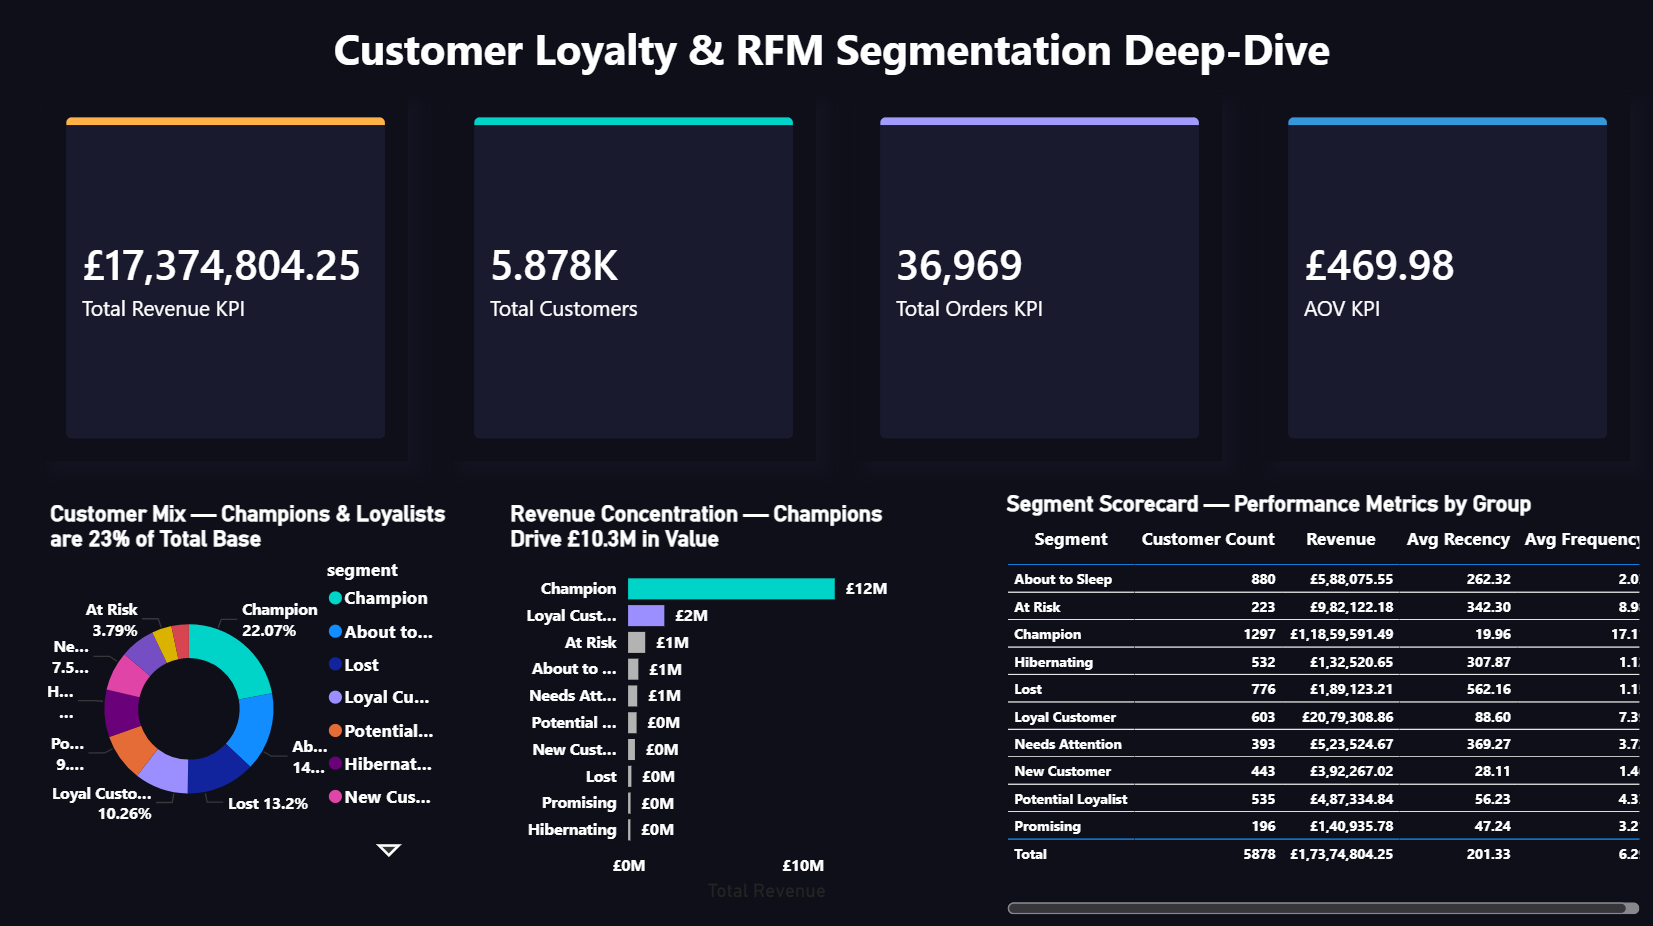

The page's visual inventory and layout, read from the dashboard file:
{"tool":"powerbi","page":{"name":"Customer Loyalty & RFM Analysis","canvas":[1280,720],"ordinal":1},"visuals":[{"type":"cardVisual","fields":{"Data":["fact_sales.Total Revenue KPI"]},"box":[41.3,79.6,278.7,280.2],"z":0},{"type":"cardVisual","fields":{"Data":["Count(rfm_segments.customer_id)"]},"box":[353.2,79.6,278.7,280.2],"z":1000},{"type":"cardVisual","title":"Total Orders","fields":{"Data":["fact_sales.Total Orders KPI"]},"box":[665,79.6,278.7,280.2],"z":2000},{"type":"cardVisual","fields":{"Data":["fact_sales.AOV KPI"]},"box":[976.8,79.6,278.7,280.2],"z":3000},{"type":"textbox","box":[0,16.8,1280,128.6],"z":4000},{"type":"donutChart","title":"Customer Mix — Champions & Loyalists are 23% of Total Base","fields":{"Category":["rfm_segments.segment"],"Y":["CountNonNull(rfm_segments.customer_id)"]},"box":[41.3,390.4,313.9,280.2],"z":5000},{"type":"clusteredBarChart","title":"Revenue Concentration — Champions Drive £10.3M in Value","fields":{"Category":["rfm_segments.segment"],"Y":["fact_sales.Total Revenue"]},"box":[393.5,390.4,329.2,310.8],"z":6000},{"type":"tableEx","title":"Segment Scorecard — Performance Metrics by Group","fields":{"Values":["rfm_segments.segment","rfm_segments.customer_id","fact_sales.Total Revenue","Avg(rfm_segments.recency)","Avg(rfm_segments.frequency)"]},"box":[773.2,382.8,494.5,329.2],"z":7000}]}

Visuals, with their boxes in screenshot pixels (x1, y1, x2, y2), scaled from the page's 1280x720 canvas onto the 1653x926 screenshot:
cardVisual - fact_sales.Total Revenue KPI: BBox(53, 102, 413, 463)
cardVisual - Count(rfm_segments.customer_id): BBox(456, 102, 816, 463)
"Total Orders" cardVisual: BBox(859, 102, 1219, 463)
cardVisual - fact_sales.AOV KPI: BBox(1261, 102, 1621, 463)
textbox: BBox(0, 22, 1652, 187)
"Customer Mix — Champions & Loyalists are 23% of Total Base" donutChart: BBox(53, 502, 459, 862)
"Revenue Concentration — Champions Drive £10.3M in Value" clusteredBarChart: BBox(508, 502, 933, 902)
"Segment Scorecard — Performance Metrics by Group" tableEx: BBox(999, 492, 1637, 916)
